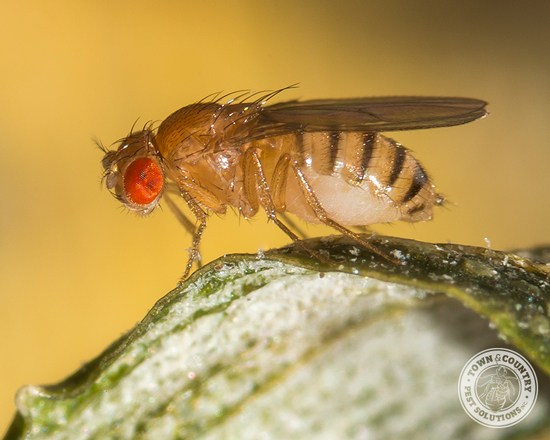phorid fly: (80, 68, 513, 306)
